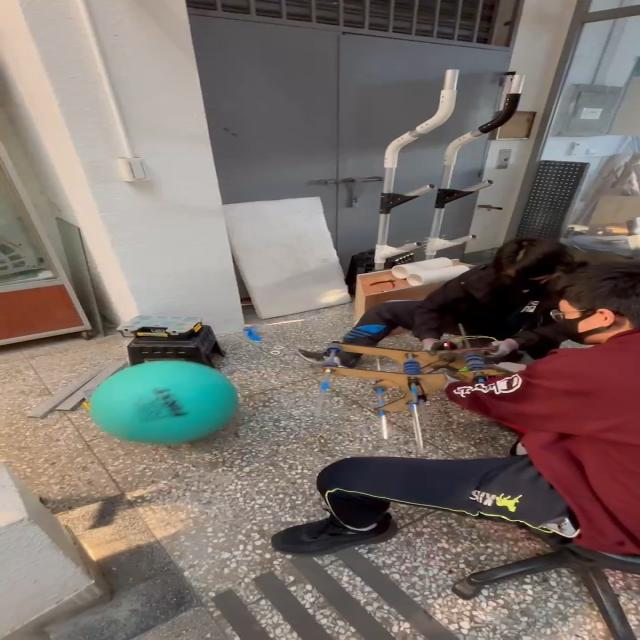ALGAE: (86, 358, 239, 446)
